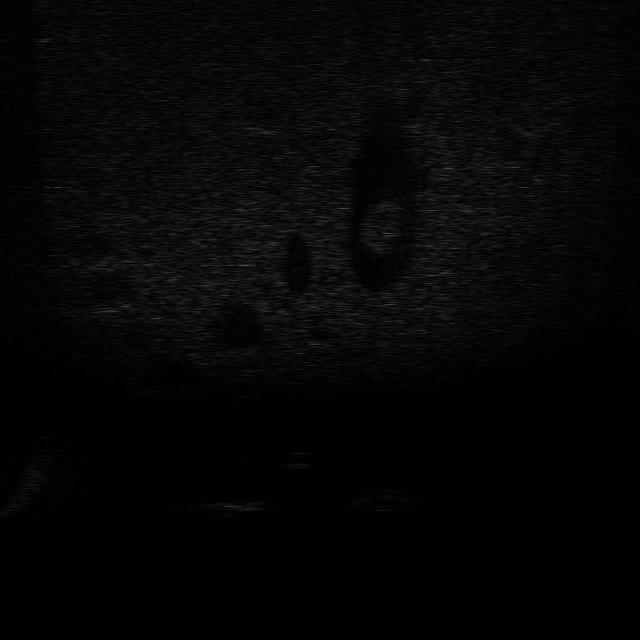ball: (278, 446, 318, 471)
square cage: (208, 491, 276, 523)
tyre: (342, 483, 418, 515)
